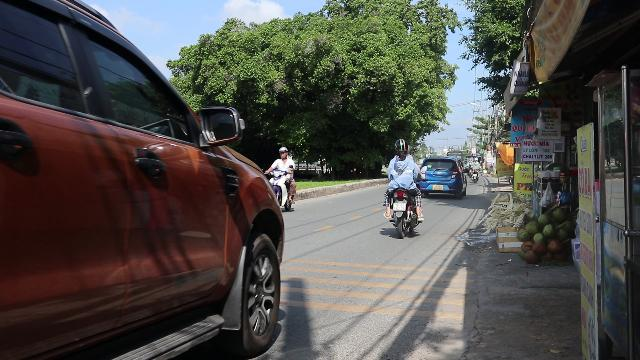helmet: (394, 138, 408, 156)
licenseplate: (392, 202, 406, 210)
motorcyclist: (380, 138, 424, 236)
